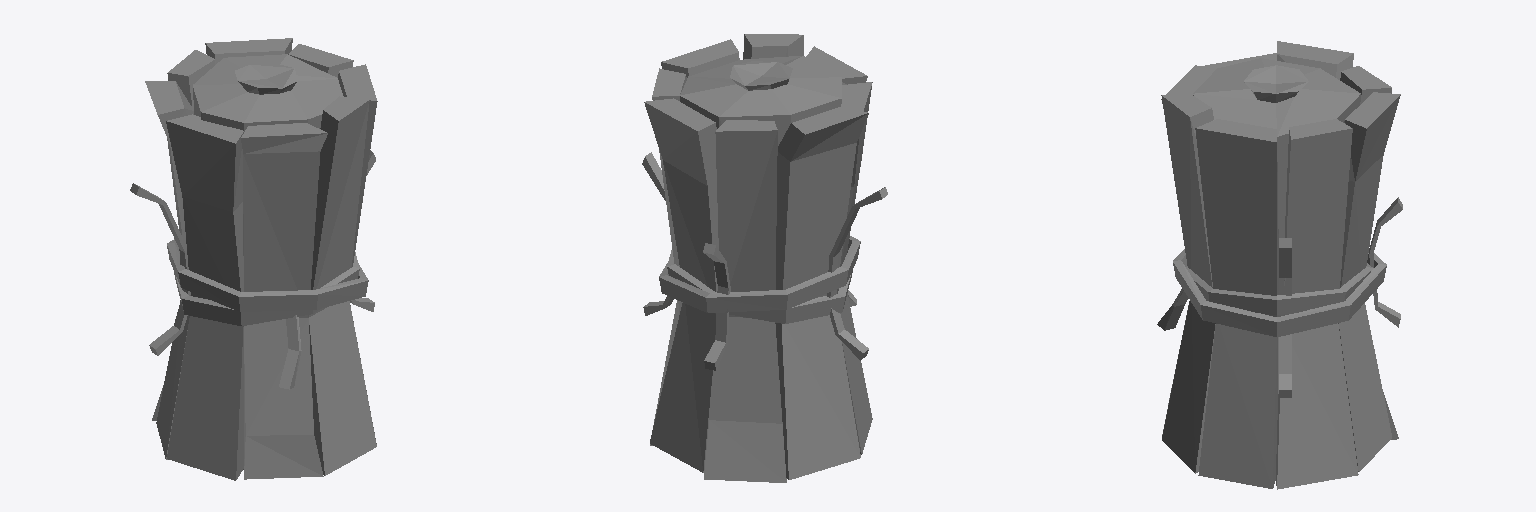
Rendered from haystack_01.obj.
3 views of the same model, side by side, from view 1: azimuth 30°, elevation 25°; view 2: azimuth 150°, elevation 25°; view 3: azimuth 270°, elevation 25° (orthographic).
Bounding box in the file's own units: 0.6643 × 0.9564 × 0.5891.